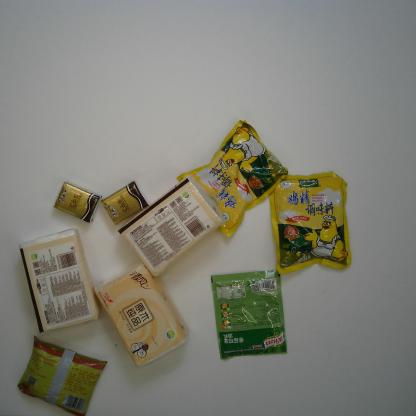Seasoner: (174, 118, 289, 240), (268, 170, 357, 277), (15, 332, 108, 415), (209, 270, 289, 360)
Tissue: (116, 176, 226, 278), (93, 259, 190, 369), (17, 228, 101, 334), (101, 179, 150, 226), (52, 180, 102, 223)
